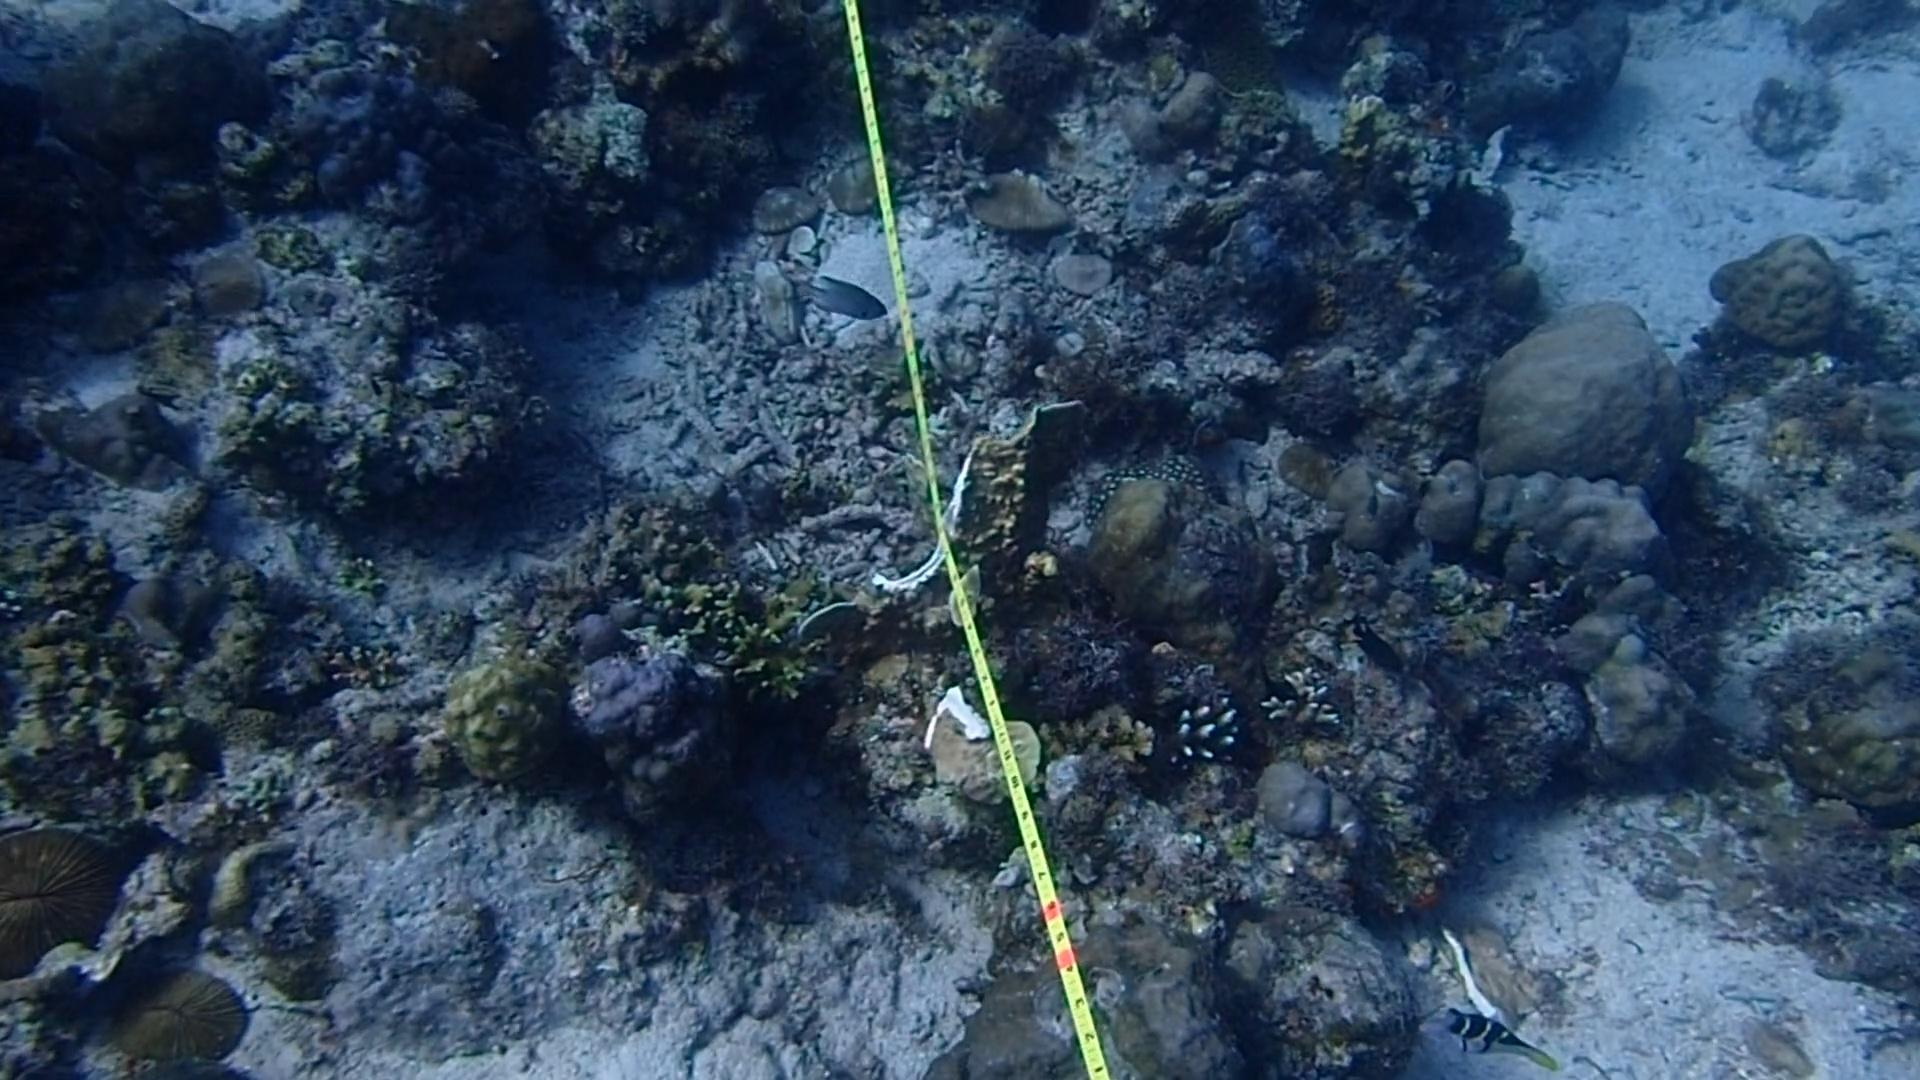Striped Fish: (1436, 1001, 1552, 1080)
